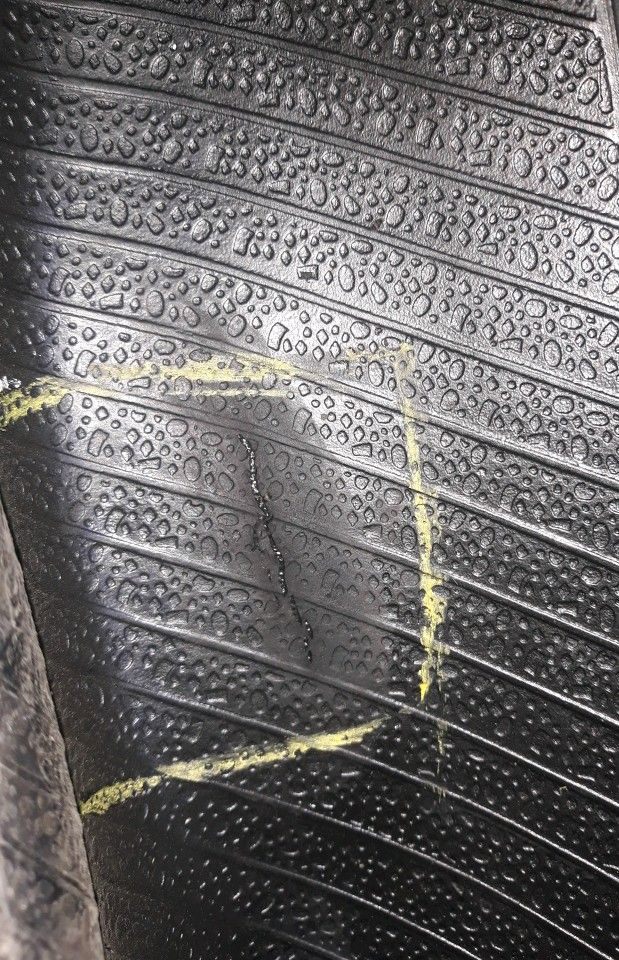CBU: (229, 418, 353, 695)
